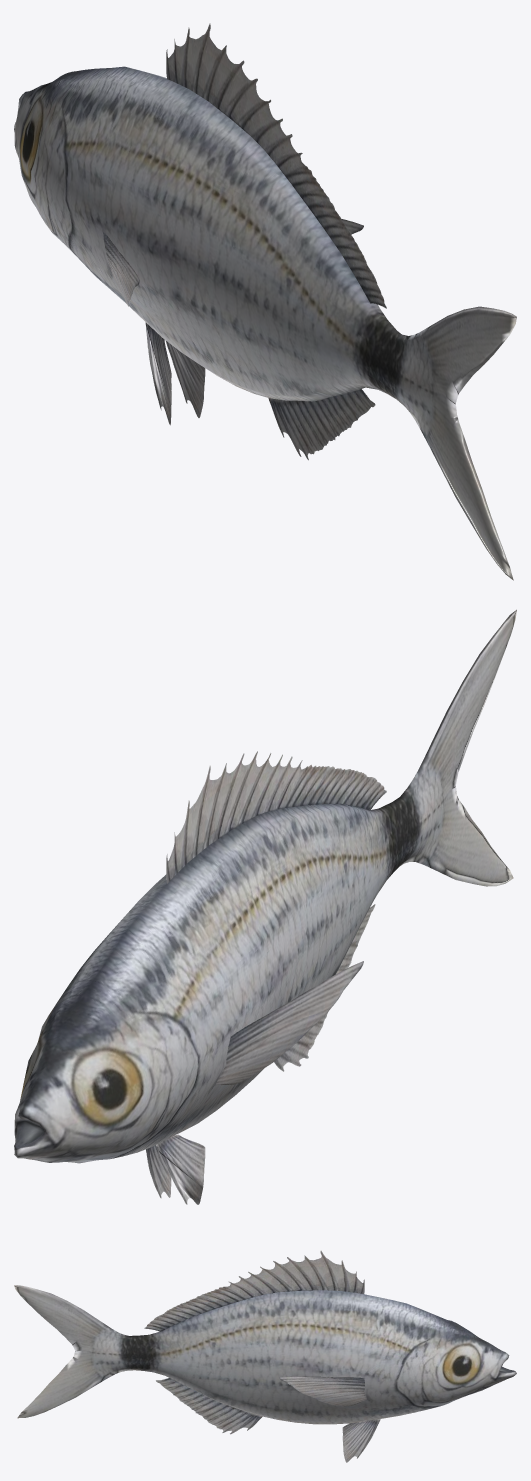
The model's file is Occhiata.glb.
The picture shows the model from 3 angles, top to bottom: view 1: azimuth 30°, elevation 25°; view 2: azimuth 150°, elevation 25°; view 3: azimuth 270°, elevation 25°; orthographic projection. The views are drawn at different scales.
Visible parts, largest first — view 1: Occhiata, Occhiata.002, Occhiata.003, Occhiata.004, Occhiata.005; view 2: Occhiata, Occhiata.002, Occhiata.005, Occhiata.004, Occhiata.003; view 3: Occhiata, Occhiata.002, Occhiata.003, Occhiata.005, Occhiata.004.
Boxes of the visible parts, x1=… form: Occhiata: x1=14, y1=66, x2=516, y2=580; Occhiata.002: x1=166, y1=23, x2=386, y2=308; Occhiata.003: x1=268, y1=389, x2=375, y2=460; Occhiata.004: x1=145, y1=322, x2=205, y2=425; Occhiata.005: x1=103, y1=219, x2=363, y2=306; Occhiata: x1=14, y1=609, x2=516, y2=1163; Occhiata.002: x1=166, y1=751, x2=386, y2=883; Occhiata.005: x1=216, y1=961, x2=363, y2=1084; Occhiata.004: x1=146, y1=1134, x2=205, y2=1204; Occhiata.003: x1=274, y1=904, x2=375, y2=1071; Occhiata: x1=14, y1=1285, x2=516, y2=1424; Occhiata.002: x1=144, y1=1250, x2=364, y2=1331; Occhiata.003: x1=156, y1=1378, x2=262, y2=1434; Occhiata.005: x1=279, y1=1376, x2=366, y2=1406; Occhiata.004: x1=342, y1=1418, x2=380, y2=1462.
Bounding box in the file's own units: 2.73 × 4.91 × 10.46.
Materials: 2 (2 with a texture image).
